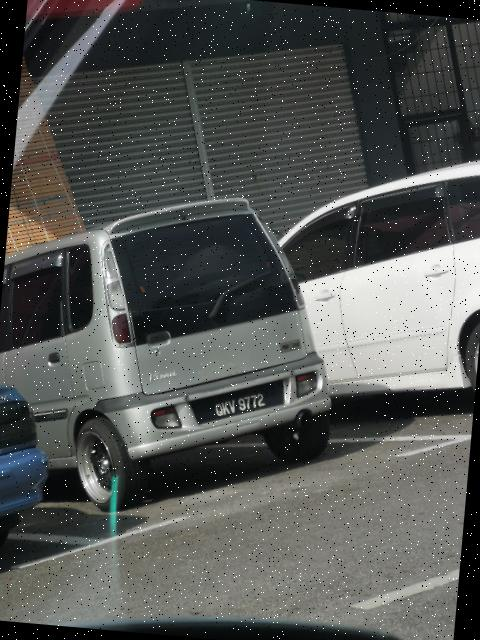License_Plate: (192, 372, 288, 433)
car: (1, 158, 362, 515)
